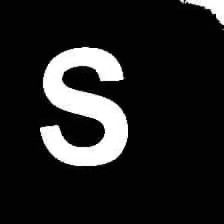LTR_S: (34, 39, 133, 172)
